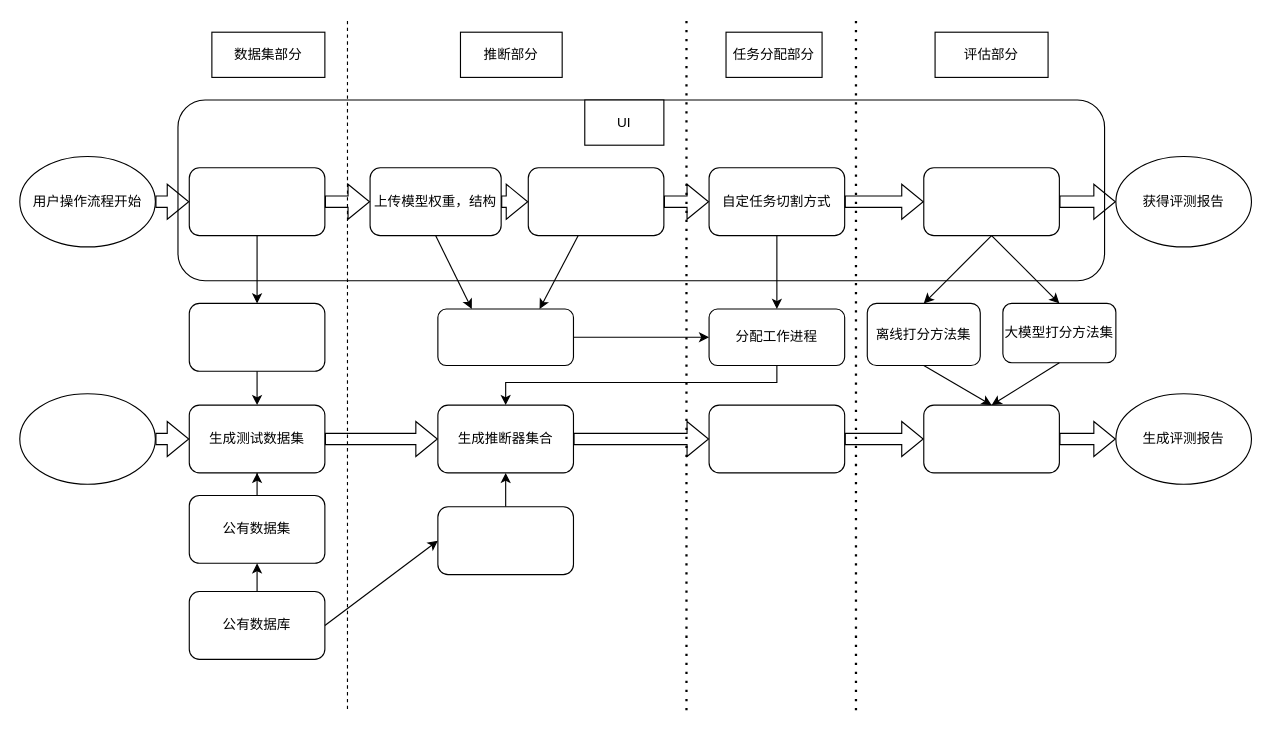
This 1271x731 diagram has some shape labels left out. Each missing label, with the centre of its shape:
"上传数据集" goes at pixel 256 201.
"使用公有模型" goes at pixel 505 540.
"使用生成评测流程" goes at pixel 991 438.
"存入私有数据集" goes at pixel 256 336.
"得到模型推断的结果" goes at pixel 776 438.
"提供大模型访问端口" goes at pixel 595 201.
"生成推断器" goes at pixel 505 337.
"评测流程开始" goes at pixel 87 438.
"选择评价指标" goes at pixel 991 201.
